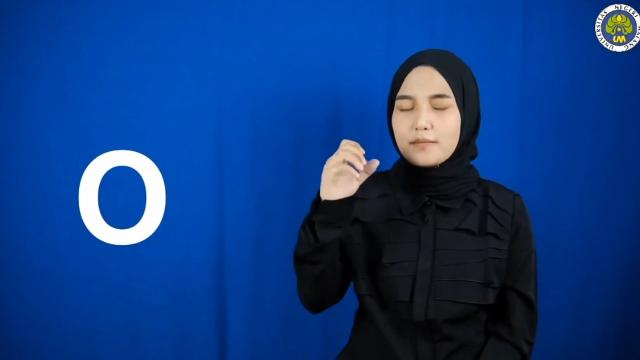O: (317, 134, 381, 202)
